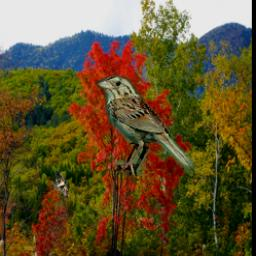Sparrow: (96, 75, 197, 177)
Swallow: (51, 170, 69, 197)
